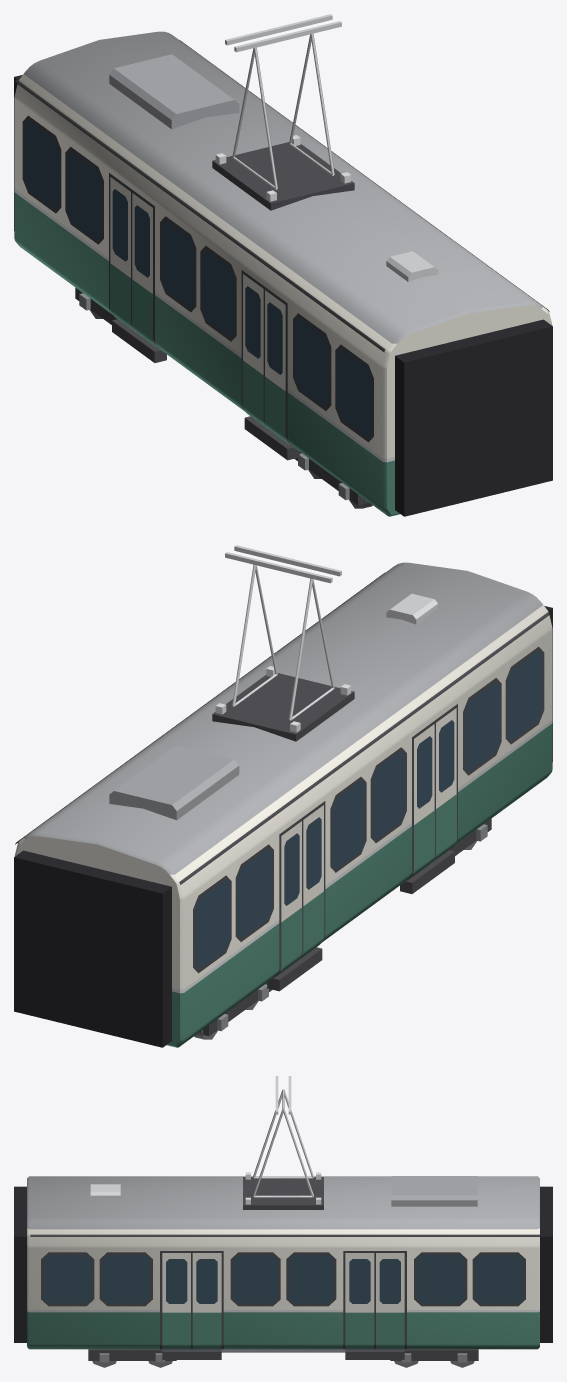
The model's file is middle_2.fbx.
The picture shows the model from 3 angles, top to bottom: view 1: azimuth 30°, elevation 25°; view 2: azimuth 150°, elevation 25°; view 3: azimuth 270°, elevation 25°; orthographic projection. The views are drawn at different scales.
Visible parts, largest first — view 1: 14_middle_2; view 2: 14_middle_2; view 3: 14_middle_2.
Part boxes in pixels (<box>): 14_middle_2: <box>14,14,552,516</box>; 14_middle_2: <box>14,545,552,1047</box>; 14_middle_2: <box>14,1076,552,1367</box>.
Size of the model in its own units: 2.54 by 5.21 by 10.
